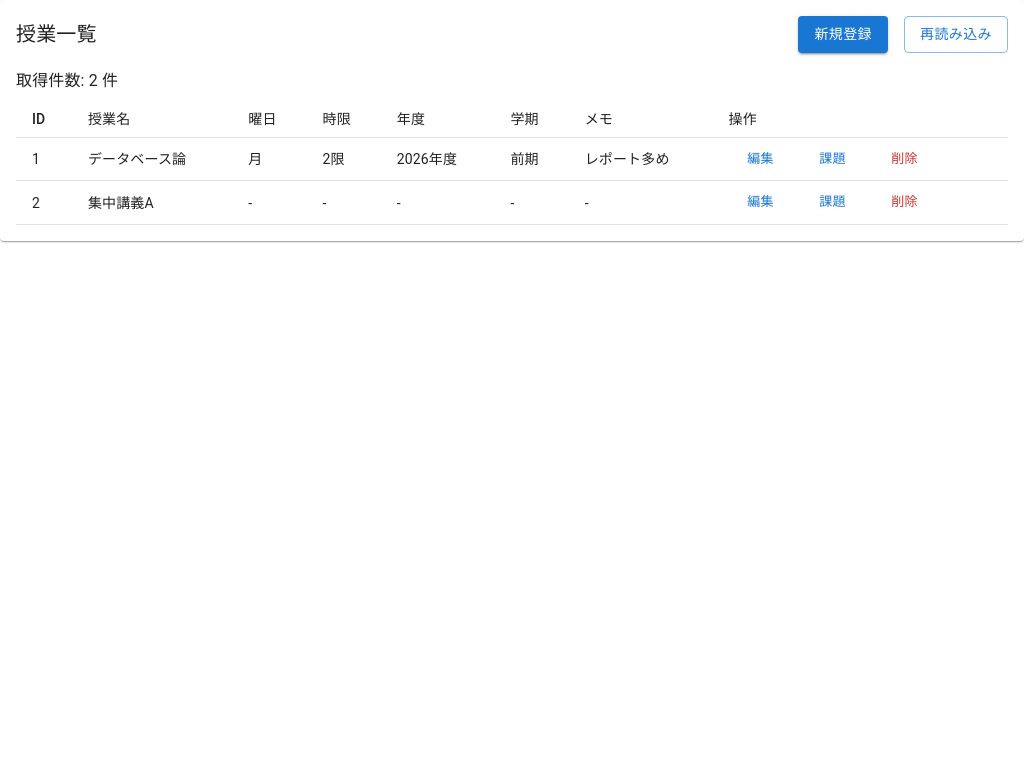
Test case: 授業の削除 › 確認後に削除でき、削除後は一覧に表示されなくなる
This screenshot has width=1024, height=768.
Expected: the text "データベース論" is shown, [72,137,232,181]
Click the button with aria-label "授業「データベース論」を削除" at (904, 159), box [872,144,936,174]
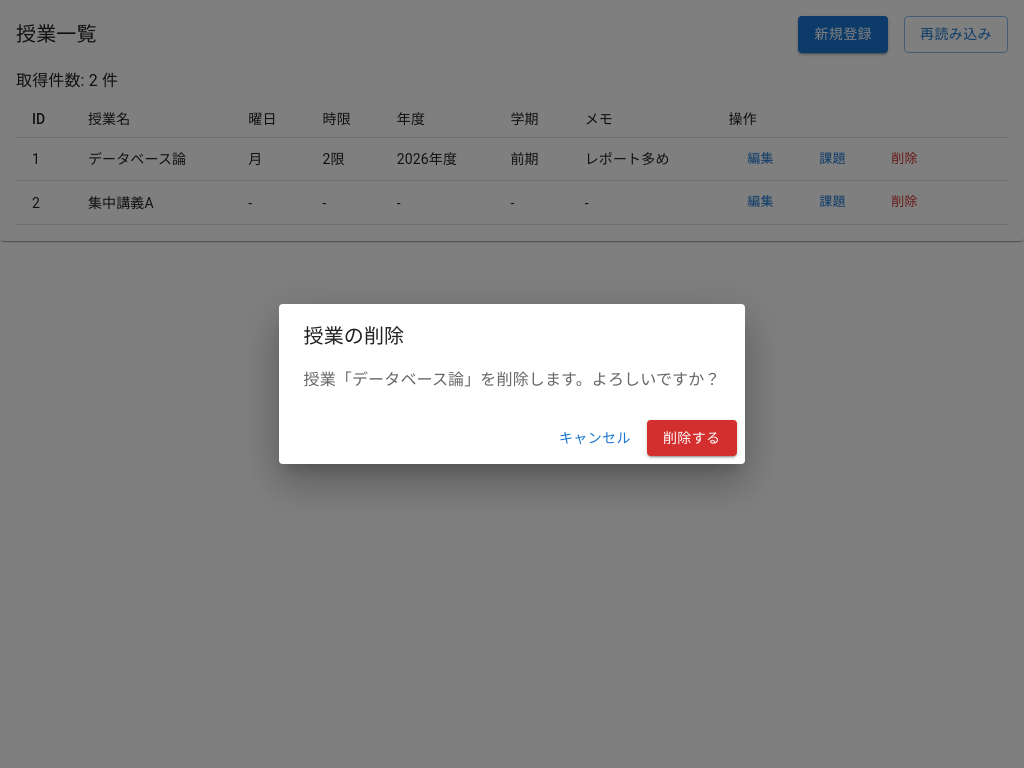
Result: the text "授業「データベース論」を削除します。よろしいですか？" is shown at [304,368,720,392]
Click the button "削除する" at (692, 438), box [647,420,736,456]
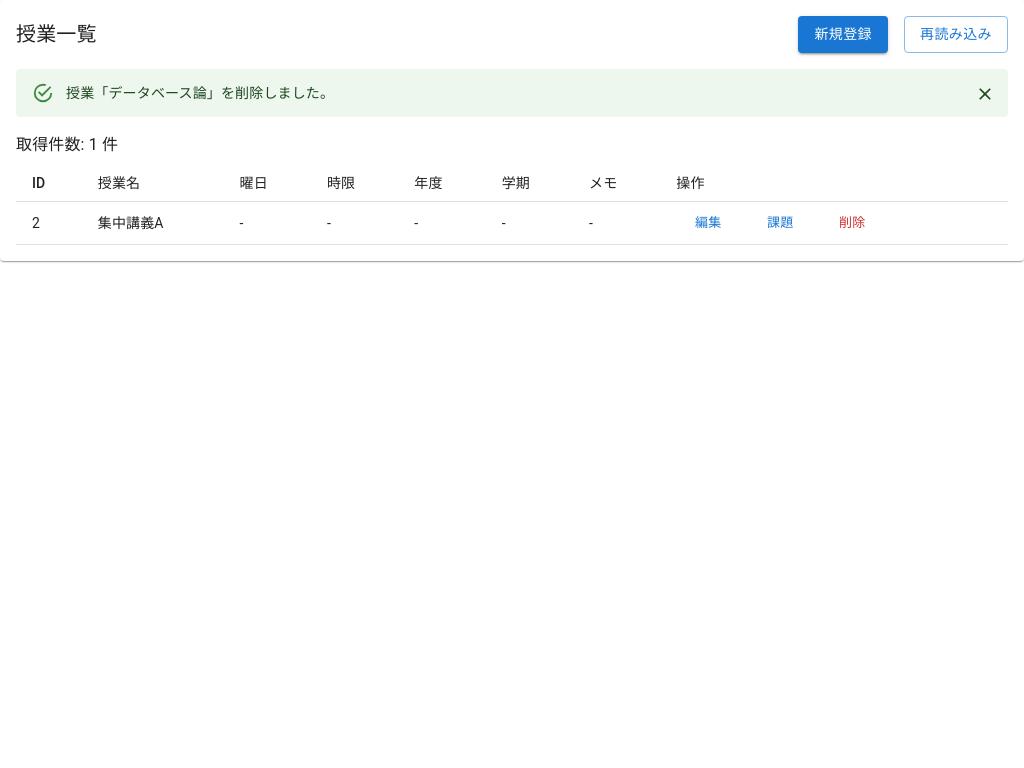
Result: the text "授業「データベース論」を削除しました。" is shown at [66,84,334,100]
Result: the text "取得件数: 1 件" is shown at [16,134,118,154]
